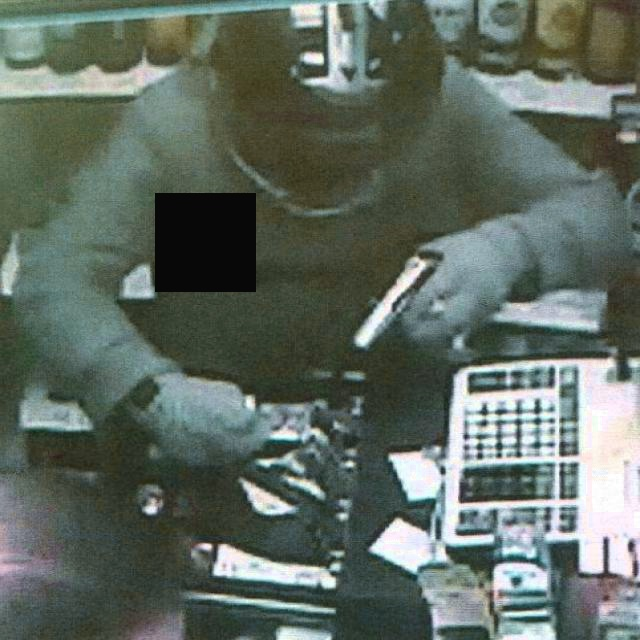gun: (337, 240, 457, 353)
